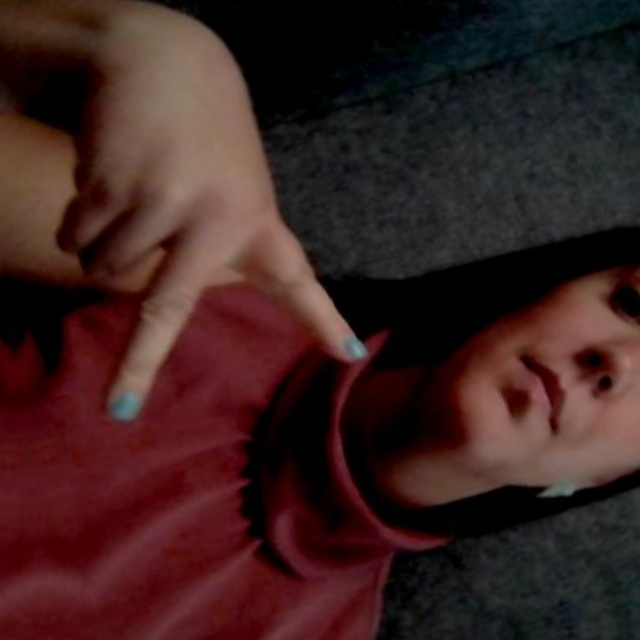Scissors: (0, 0, 41, 624)
